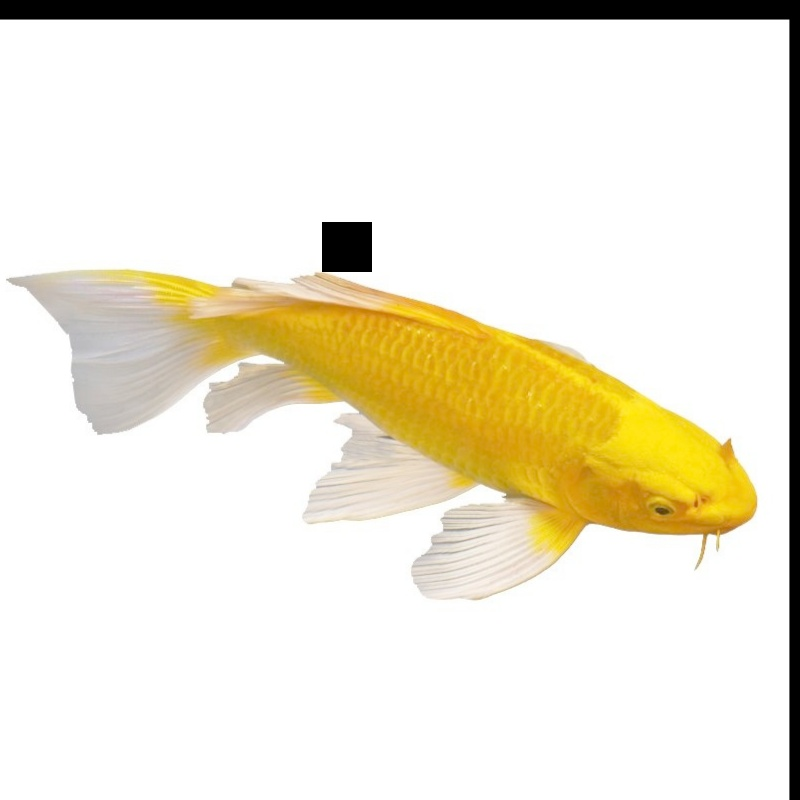fry: (35, 209, 771, 616)
